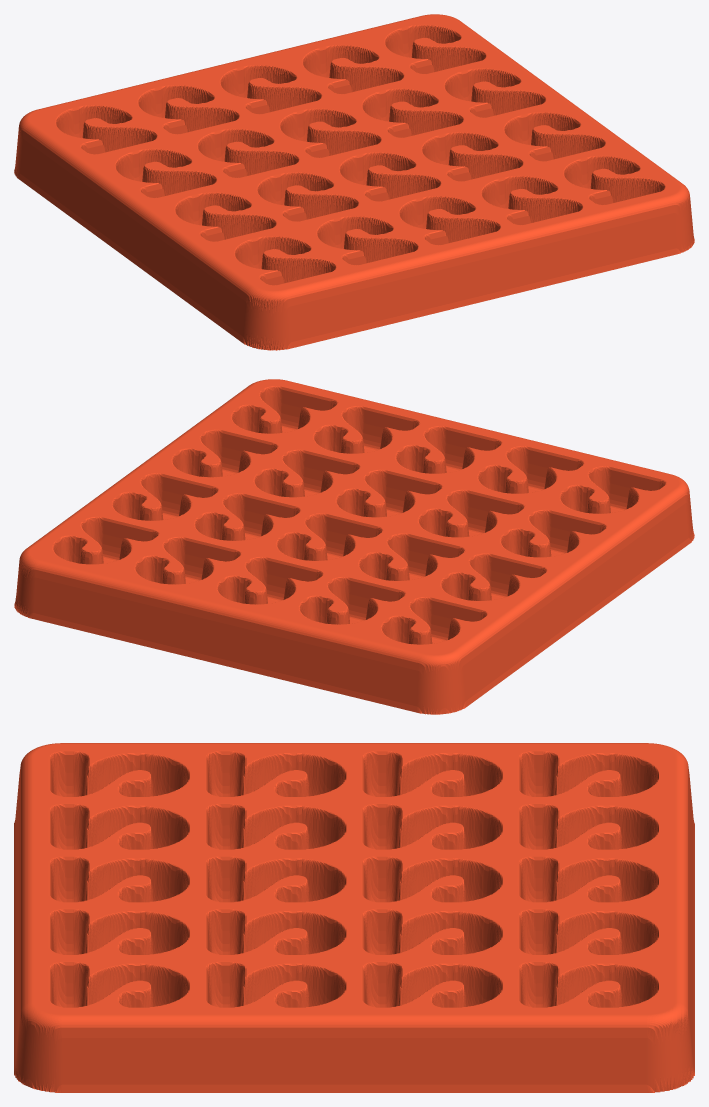
The model's file is mold.glb.
3 views of the same model, one above another, from view 1: azimuth 30°, elevation 25°; view 2: azimuth 150°, elevation 25°; view 3: azimuth 270°, elevation 25° (orthographic). The views are drawn at different scales.
Parts seen in each view (by area): view 1: geometry_0; view 2: geometry_0; view 3: geometry_0.
Boxes of the visible parts, x1,y1,x2,y2 form: geometry_0: [14, 14, 694, 350]; geometry_0: [14, 379, 694, 714]; geometry_0: [14, 743, 694, 1092].
Bounding box in the file's own units: 0.1272 × 0.0145 × 0.1278.
